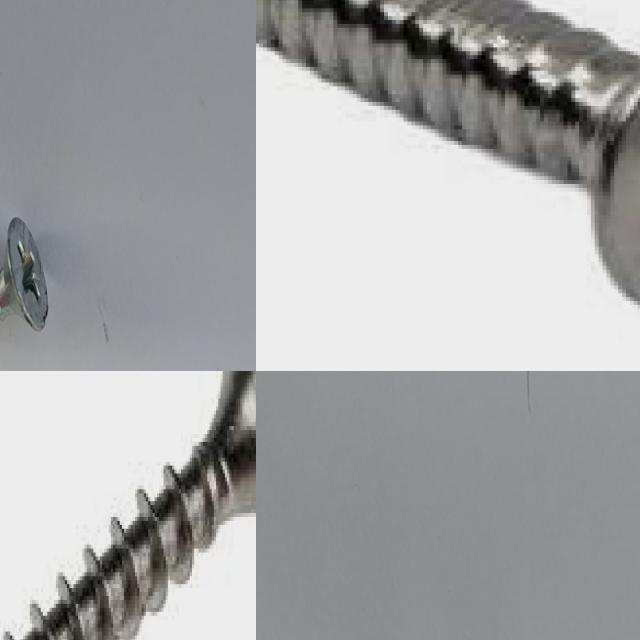Screw: (256, 0, 640, 302), (4, 371, 256, 640), (0, 217, 48, 331)
